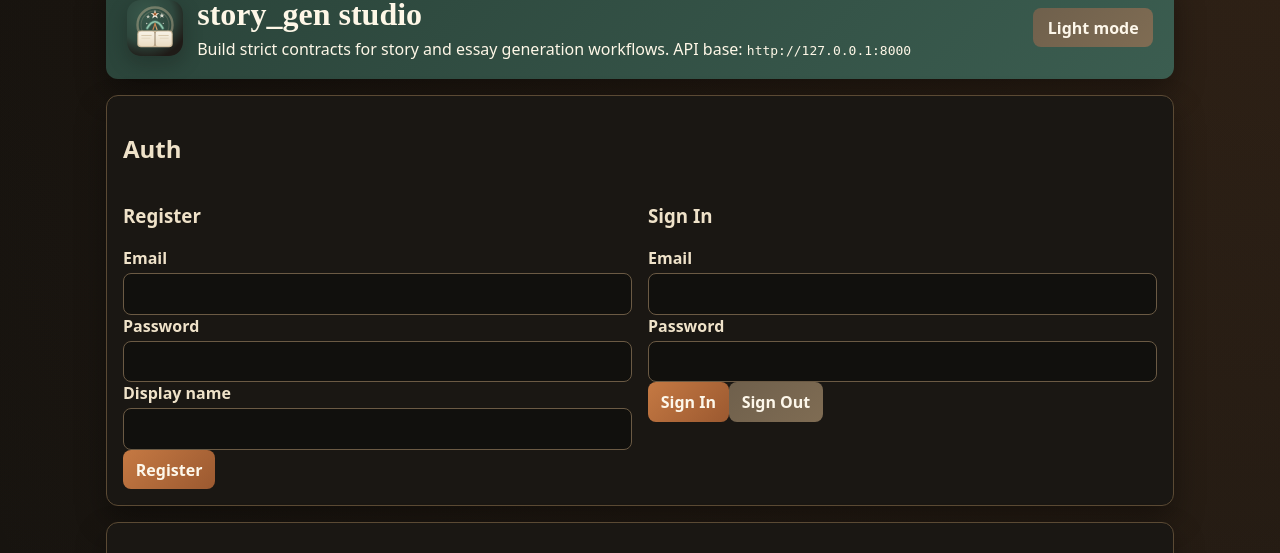
App › runs story analysis and loads dashboard projections
The width and height of the screenshot is (1280, 553).
Type "writer@example.com" into the 2nd field labelled "Email" at (902, 294), box x1=648 y1=273 x2=1157 y2=315
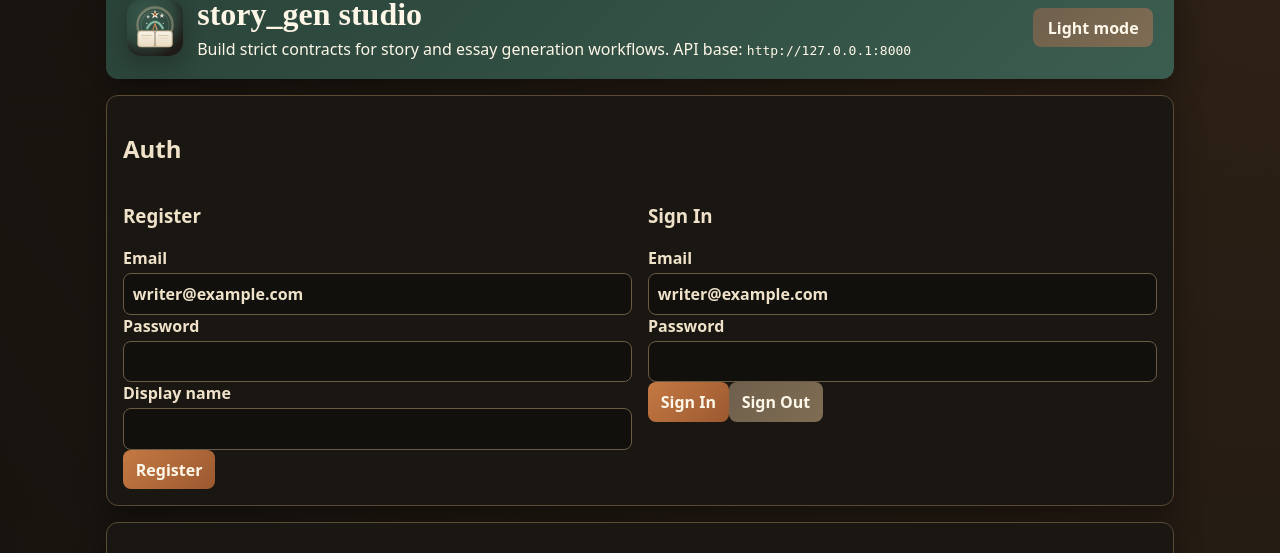
Type "secret123" into the 2nd password field labelled "Password" at (902, 361), box x1=648 y1=341 x2=1157 y2=382
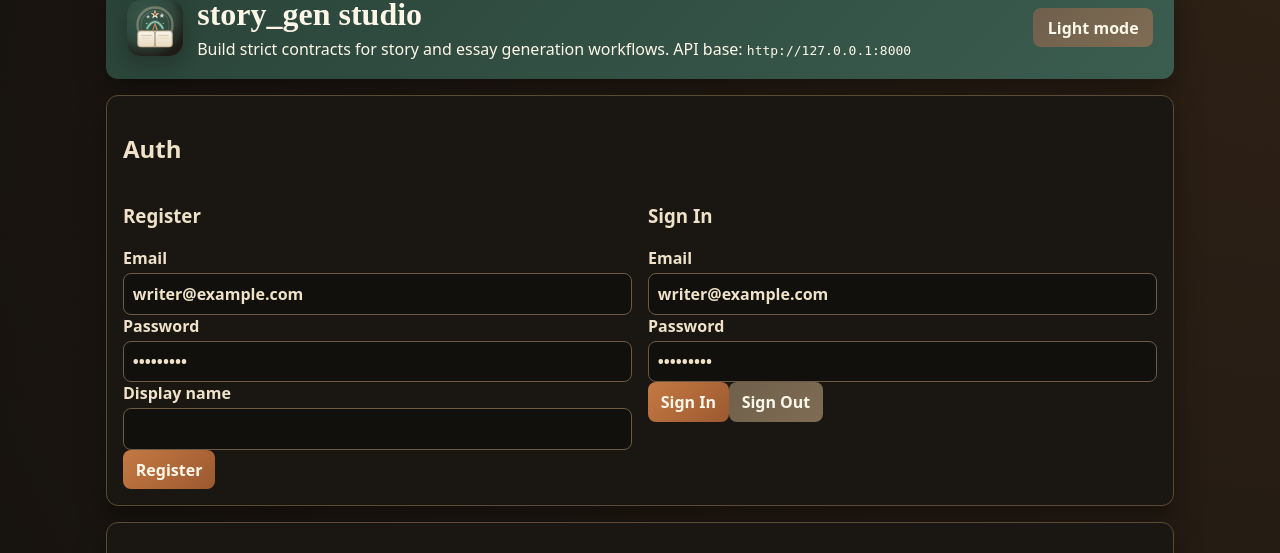
Click the button "Sign In" at (688, 402), box x1=648 y1=382 x2=729 y2=422
(page scrolled)
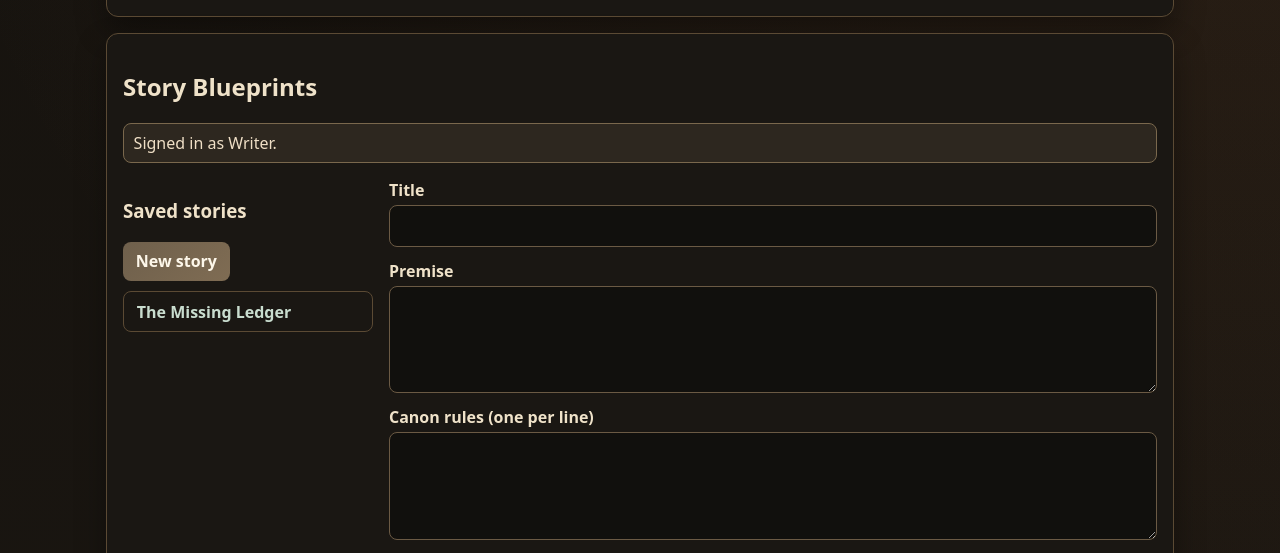
Result: the button "The Missing Ledger" is shown
Click the button "The Missing Ledger" at (248, 312), box x1=123 y1=291 x2=373 y2=332
(page scrolled)
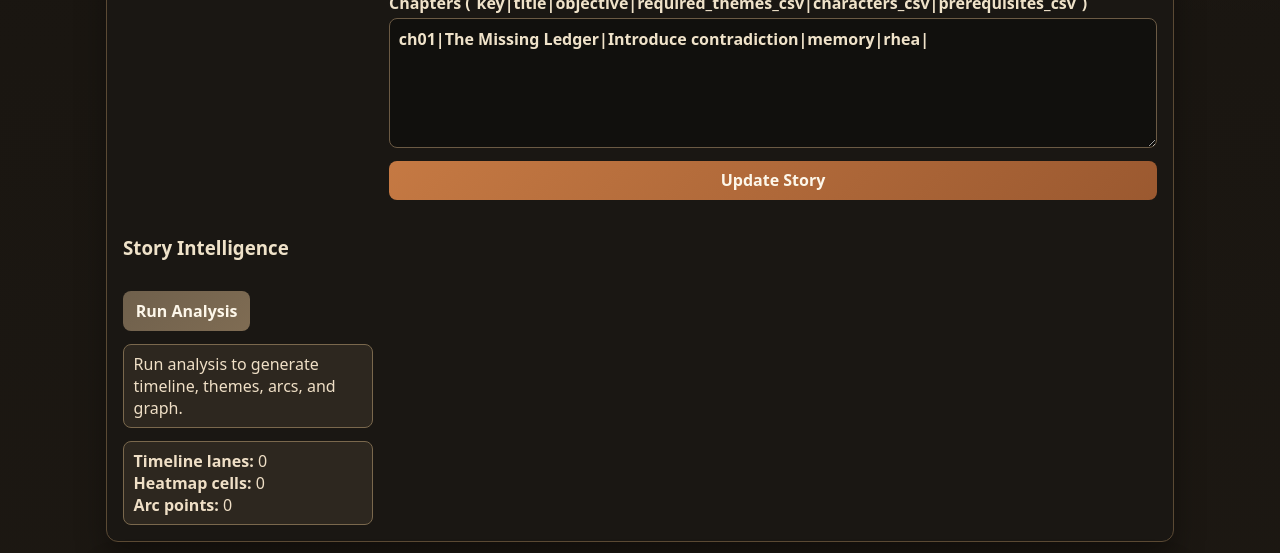
Click the button "Run Analysis" at (187, 311), box x1=123 y1=291 x2=250 y2=331
(page scrolled)
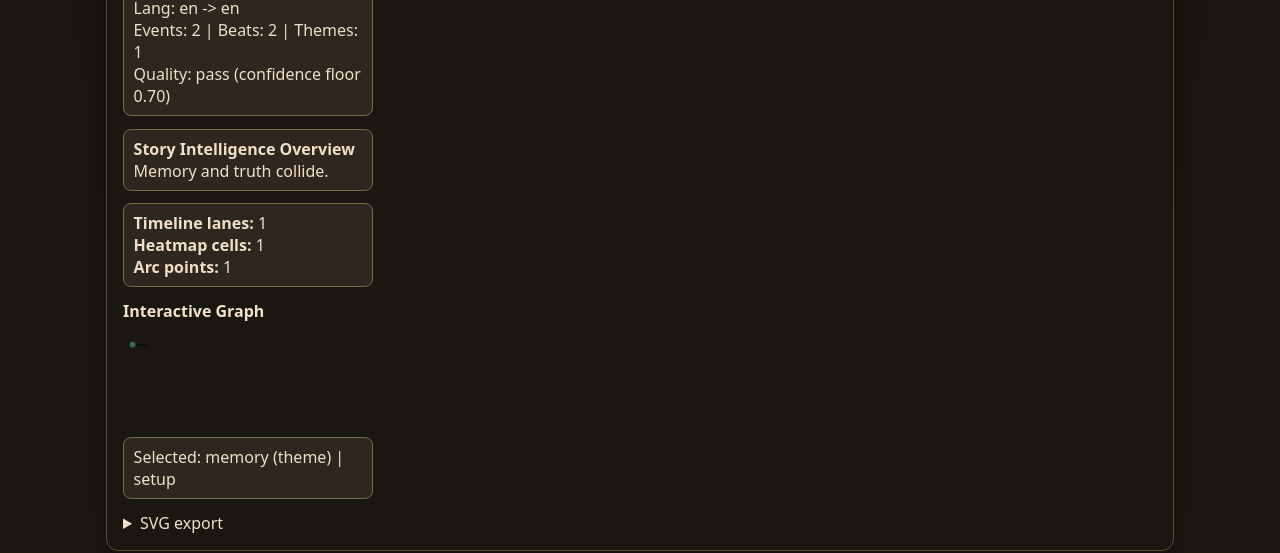
Result: the text "Interactive Graph" is shown at x1=123 y1=300 x2=264 y2=322
